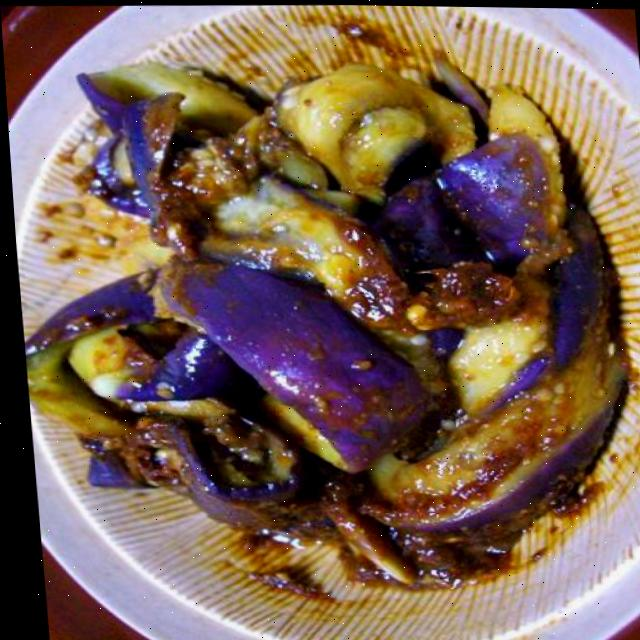鸡蛋料理: (0, 0, 634, 614)
